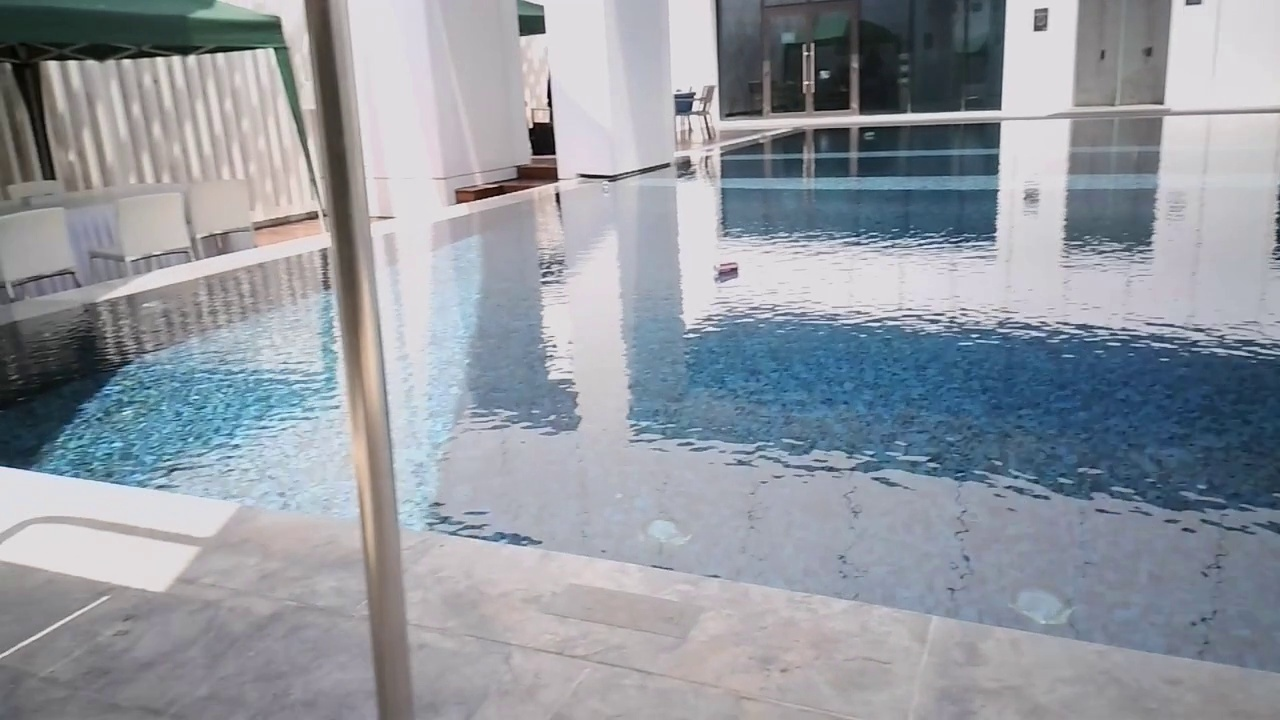debris: (714, 258, 742, 281), (862, 128, 878, 143), (598, 178, 611, 195), (758, 133, 774, 145)
